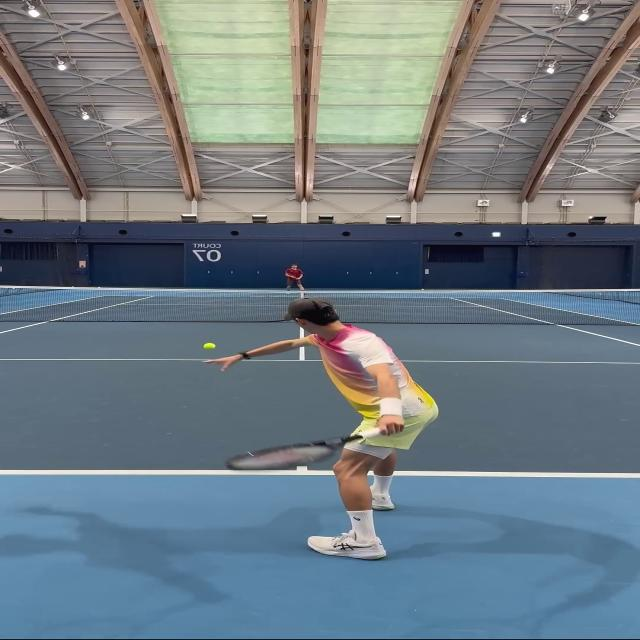tennis_ball: (205, 344, 213, 348)
